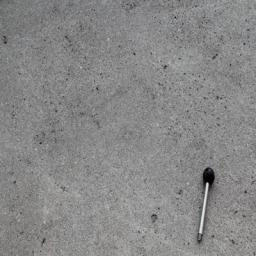FOD: (195, 167, 218, 244)
